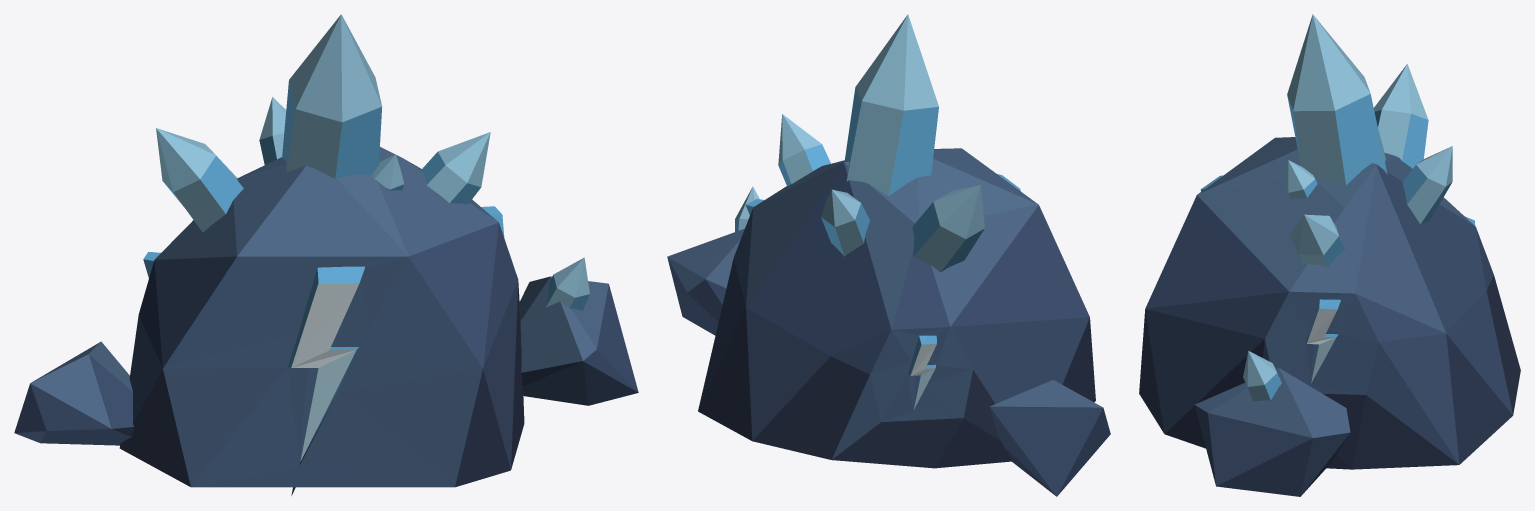
Rendered from Storm_Vein.glb.
3 renders of one model, left to right at view 1: azimuth 30°, elevation 25°; view 2: azimuth 150°, elevation 25°; view 3: azimuth 270°, elevation 25°, orthographic. The views are drawn at different scales.
Visible parts, largest first — view 1: Storm_Vein; view 2: Storm_Vein; view 3: Storm_Vein.
Part boxes in pixels (bbox=[...]): Storm_Vein: bbox=[14, 14, 638, 495]; Storm_Vein: bbox=[667, 14, 1110, 496]; Storm_Vein: bbox=[1139, 14, 1520, 496].
Bounding box in the file's own units: 3.72 × 2.86 × 2.54.
